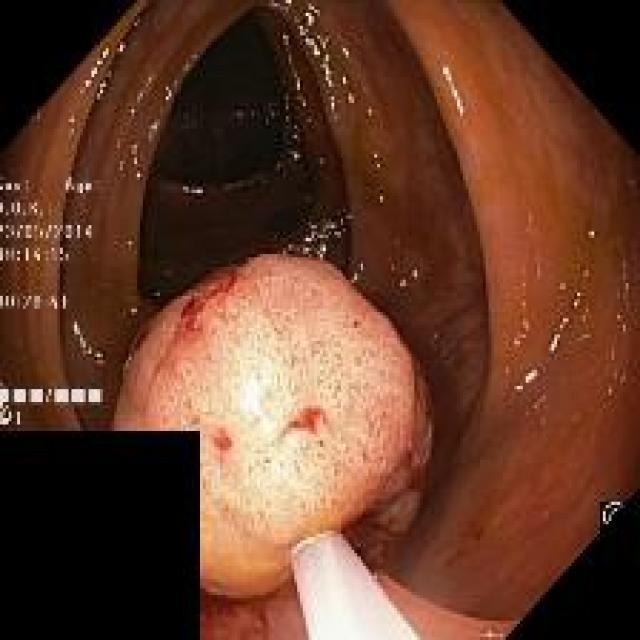Polyps: (114, 256, 432, 600)
